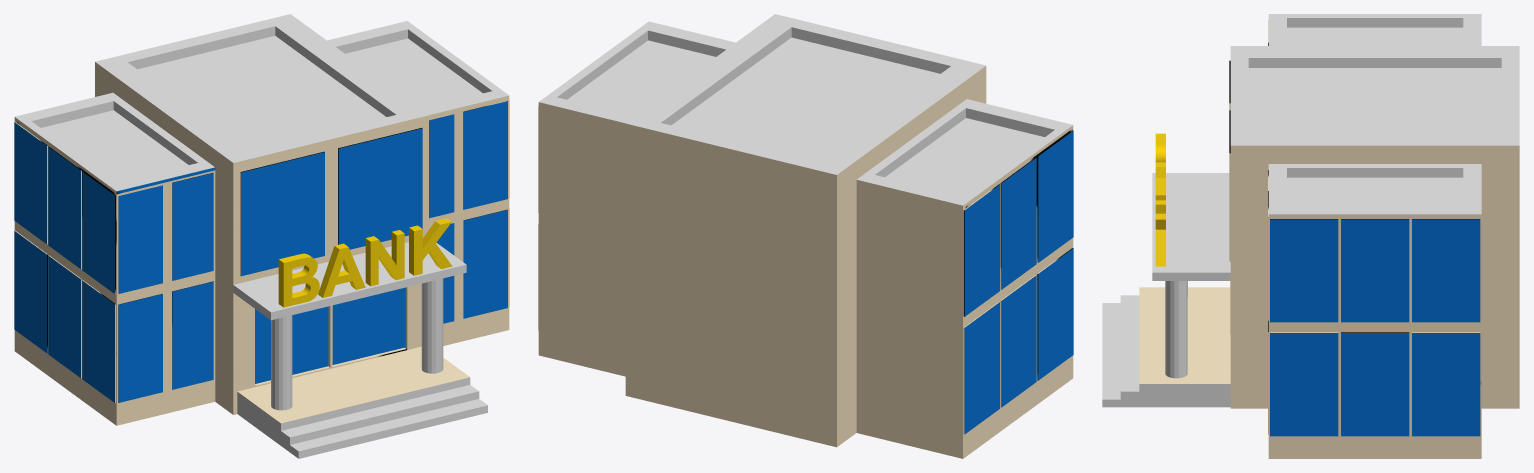
File: Bank Assets.fbx
3 renders of one model, left to right at view 1: azimuth 30°, elevation 25°; view 2: azimuth 150°, elevation 25°; view 3: azimuth 270°, elevation 25°, orthographic. The views are drawn at different scales.
Visible parts, largest first — view 1: Bank, Cube, Text; view 2: Bank; view 3: Bank, Cube, Text.
Boxes of the visible parts, box(x1,y1,x2,y2) form: Bank: box(14, 14, 509, 425); Cube: box(237, 346, 487, 458); Text: box(278, 218, 452, 307); Bank: box(538, 14, 1073, 458); Bank: box(1152, 14, 1519, 458); Cube: box(1102, 287, 1230, 407); Text: box(1155, 133, 1165, 266).
Size of the model in its own units: 51723 by 31573 by 45387.
